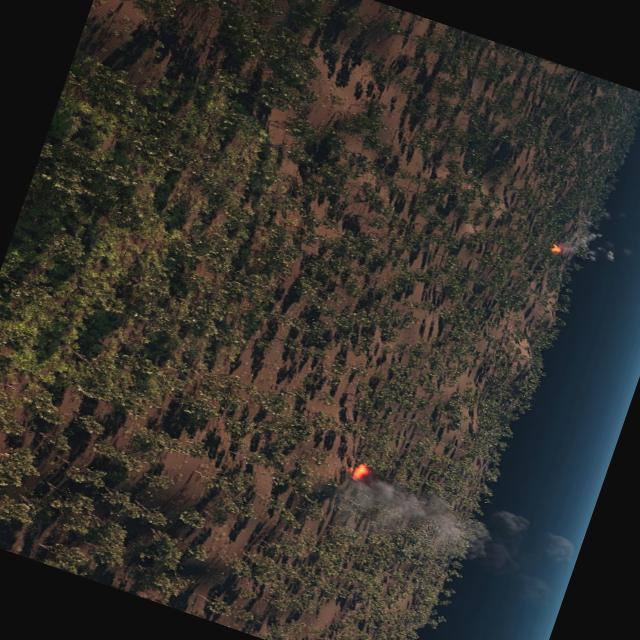fire: (348, 462, 368, 482), (550, 243, 562, 254)
smoke: (322, 454, 582, 612), (559, 218, 622, 270)
